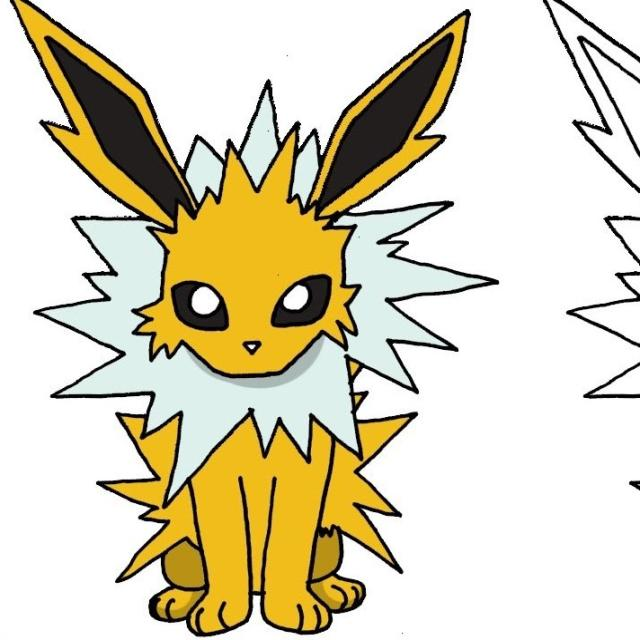Jolteon: (58, 29, 462, 635)
